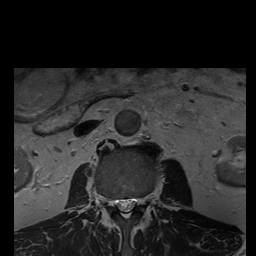CCS_normal: (122, 187, 129, 226)
LFS_normal: (137, 188, 146, 212)
LLS_normal: (129, 187, 137, 216)
RFS_normal: (105, 188, 113, 215)
RLS_normal: (113, 190, 122, 216)
